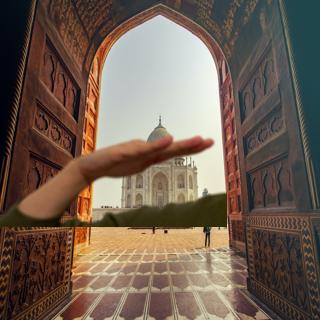WAIT: (70, 128, 220, 184)
